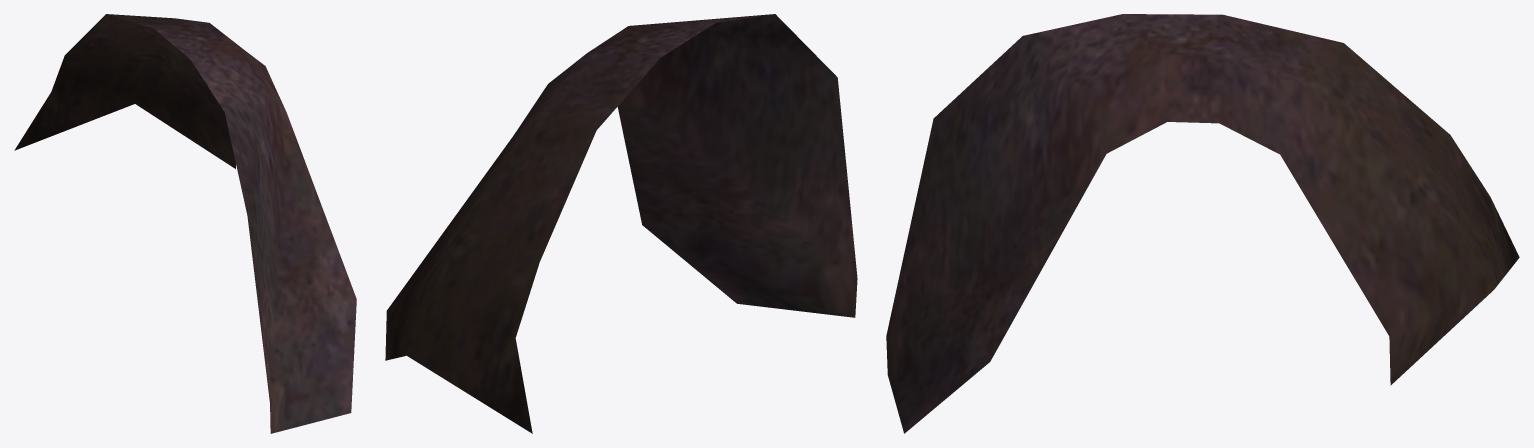
File: part_11_wheelarc_l.fbx
3 renders of one model, left to right at view 1: azimuth 30°, elevation 25°; view 2: azimuth 150°, elevation 25°; view 3: azimuth 270°, elevation 25°, orthographic. The views are drawn at different scales.
Visible parts, largest first — view 1: part_11_wheelarc_l.001; view 2: part_11_wheelarc_l.001; view 3: part_11_wheelarc_l.001.
Part boxes in pixels (left/top/right/bottom): part_11_wheelarc_l.001: left=14, top=14, right=356, bottom=433; part_11_wheelarc_l.001: left=385, top=14, right=857, bottom=433; part_11_wheelarc_l.001: left=886, top=14, right=1519, bottom=433.
Bounding box in the file's own units: 29.69 × 50.01 × 75.92.
